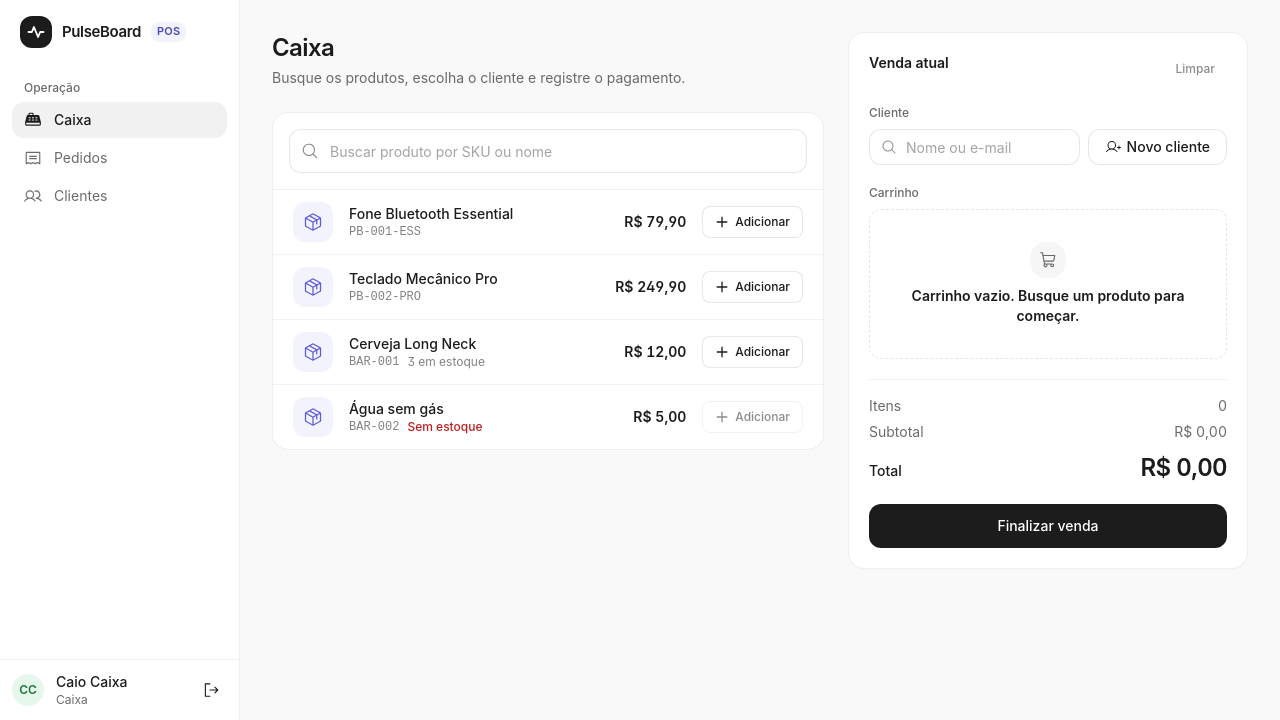
Test: authentication › logs out and clears the session
Click the button named "Sair" at (211, 690), box x1=195 y1=674 x2=227 y2=706
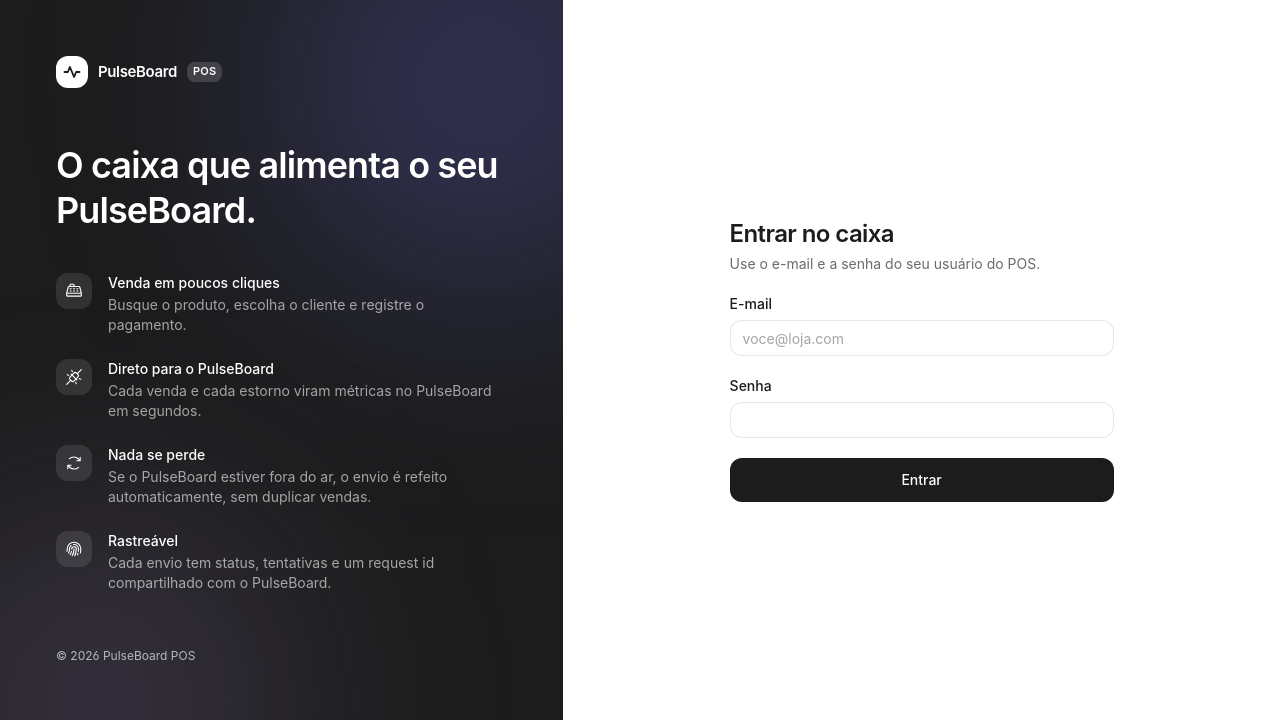
Result: the button "Entrar" is shown at x1=730 y1=458 x2=1114 y2=502
